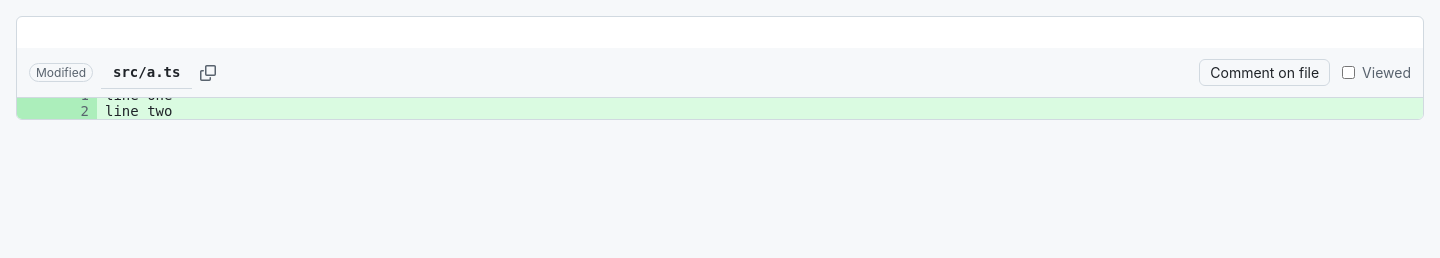
Comment on file form opens as a popover inside the sticky file header
Click the button "Comment on file": (1265, 72) [1199,59,1330,86]
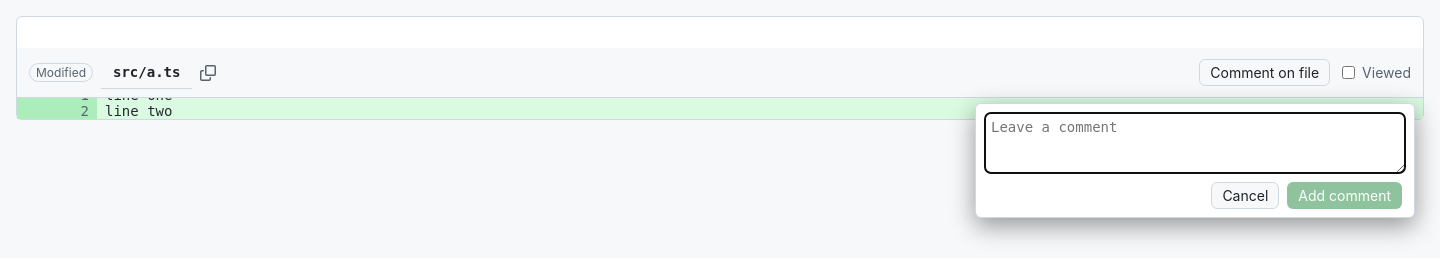
Check: the element with placeholder "Leave a comment" is shown, box [975,103,1415,218]
